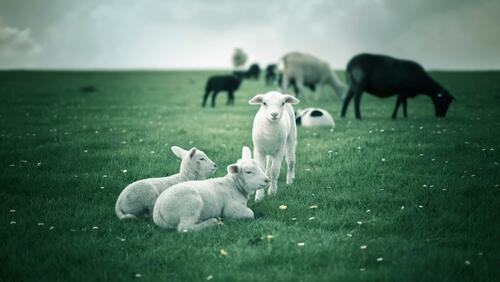sheep: (152, 146, 272, 233), (340, 53, 457, 120), (115, 146, 219, 220), (248, 90, 300, 203), (276, 52, 350, 104), (202, 71, 246, 108), (295, 107, 335, 128)
